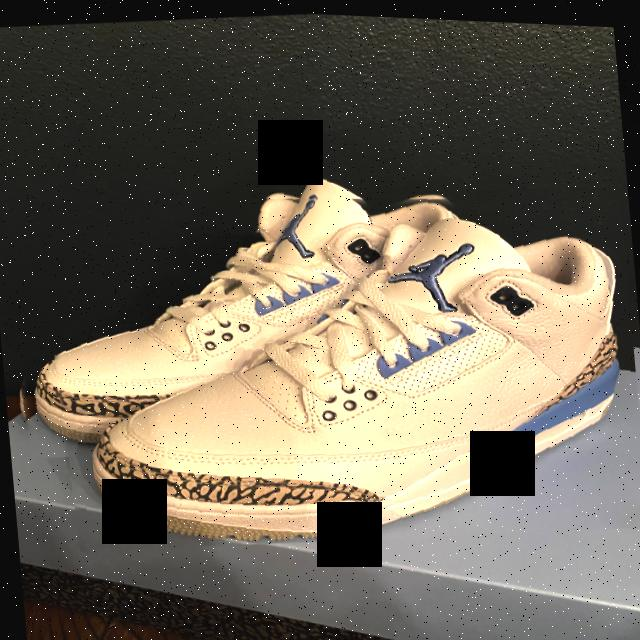shoe: (33, 146, 640, 571), (0, 124, 495, 475)
